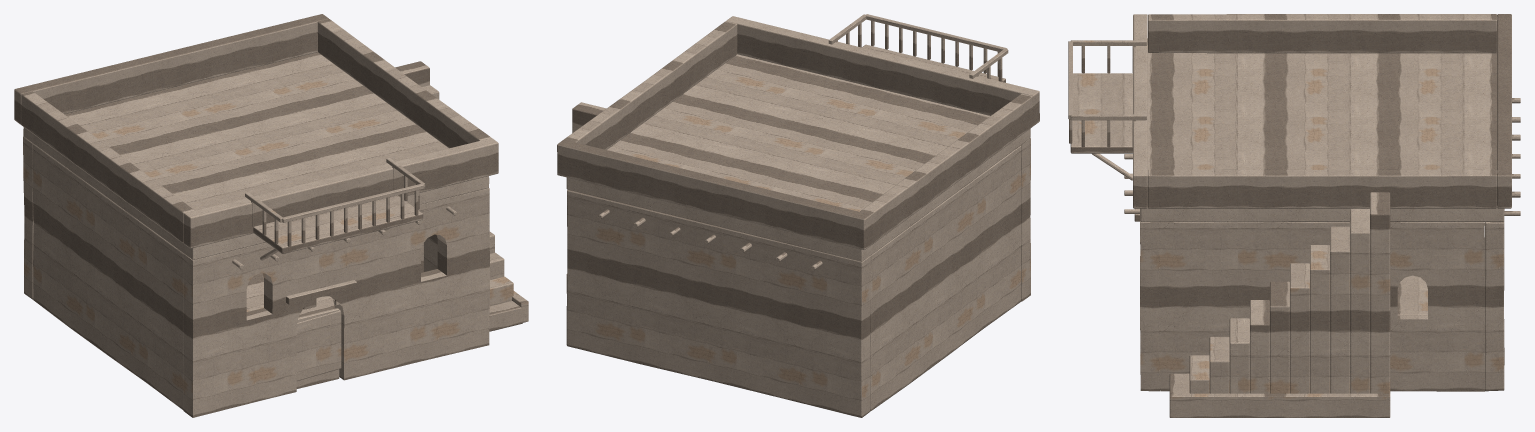
3 views of the same model, side by side, from view 1: azimuth 30°, elevation 25°; view 2: azimuth 150°, elevation 25°; view 3: azimuth 270°, elevation 25° (orthographic). The views are drawn at different scales.
Parts seen in each view (by area): view 1: house; view 2: house; view 3: house.
Part boxes in pixels (x1,y1,x2,y2): house: [14, 14, 528, 417]; house: [557, 14, 1039, 417]; house: [1068, 14, 1520, 417].
Bounding box in the file's own units: 10.13 × 5.7 × 10.38.
Materials: 1 (1 with a texture image).
